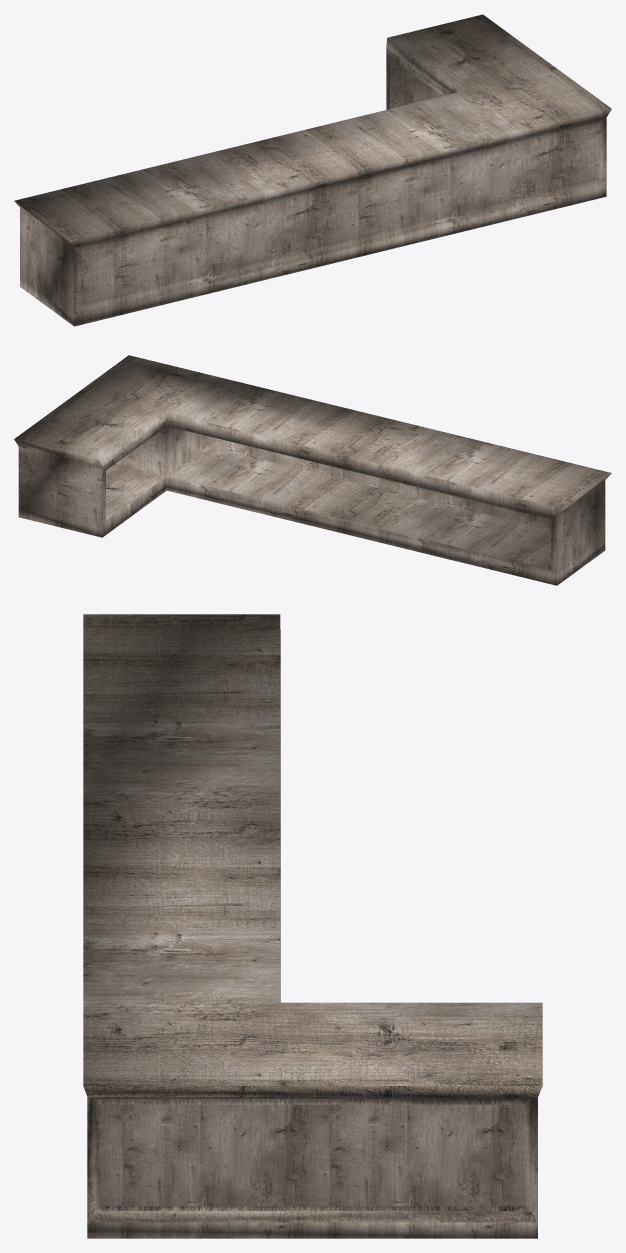
File: reception desk.FBX
3 renders of one model, top to bottom at view 1: azimuth 30°, elevation 25°; view 2: azimuth 150°, elevation 25°; view 3: azimuth 270°, elevation 25°, orthographic. The views are drawn at different scales.
Parts seen in each view (by area): view 1: Line001; view 2: Line001; view 3: Line001.
Boxes of the visible parts, left/top/right/bottom form: Line001: left=14, top=14, right=611, bottom=326; Line001: left=14, top=355, right=611, bottom=585; Line001: left=83, top=614, right=542, bottom=1238.
Bounding box in the file's own units: 17329 × 2676 × 7135.
Materials: 1 (1 with a texture image).
